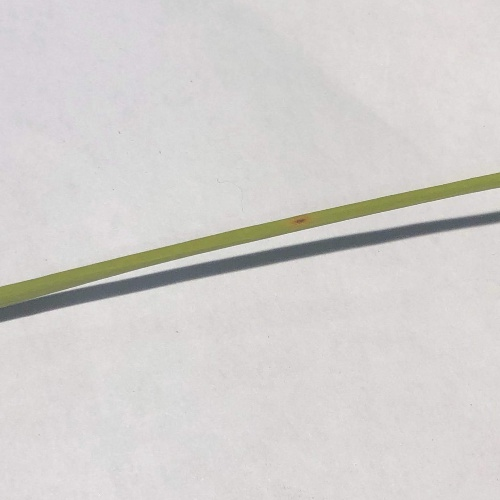Bercak Coklat: (290, 215, 320, 227)
